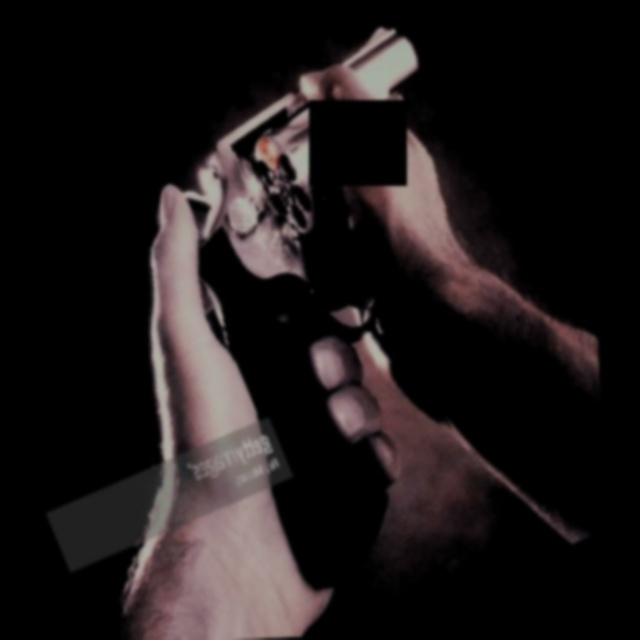gun: (109, 8, 603, 609)
